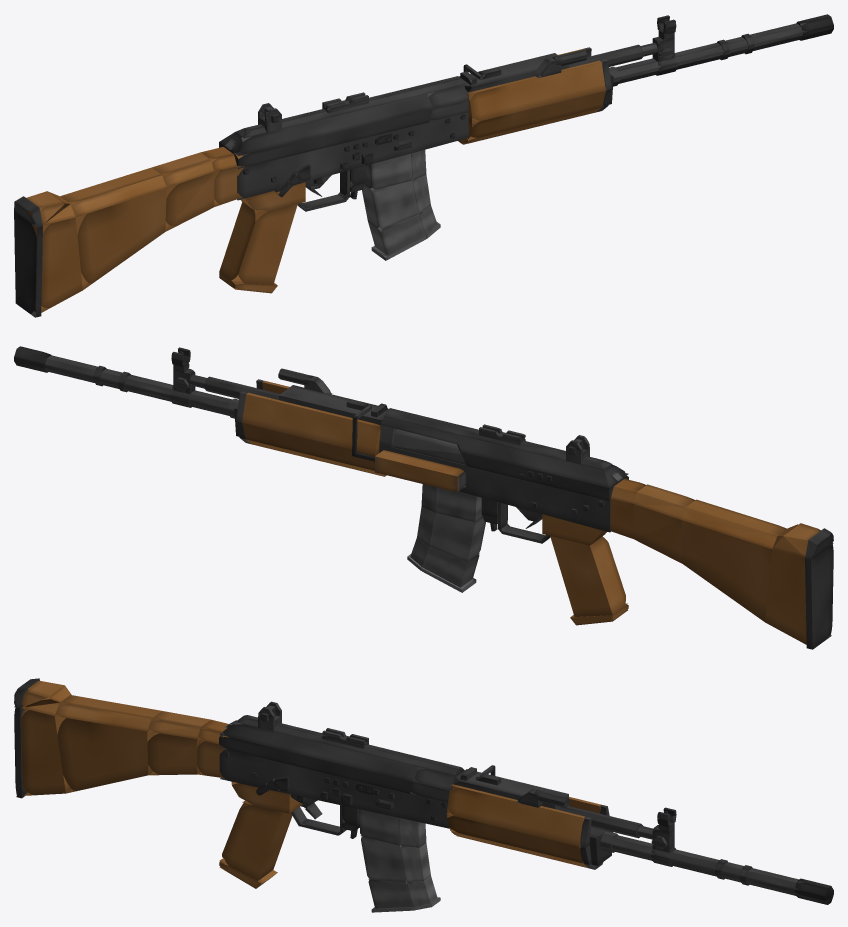
Rendered from insas.obj.
The picture shows the model from 3 angles, top to bottom: view 1: azimuth 30°, elevation 25°; view 2: azimuth 150°, elevation 25°; view 3: azimuth 330°, elevation 25°; orthographic projection.
Parts seen in each view (by area): view 1: gunModel0, gunModel22, gunModel17, gunModel87, gunModel2, gunModel23, gunModel1, gunModel29, gunModel26, gunModel89, gunModel21, gunModel4 (+13 smaller); view 2: gunModel22, gunModel0, gunModel17, gunModel86, gunModel23, gunModel2, gunModel29, gunModel26, gunModel134, gunModel88, gunModel4, gunModel21 (+15 smaller); view 3: gunModel0, gunModel22, gunModel87, gunModel17, gunModel23, gunModel2, gunModel1, gunModel26, gunModel89, gunModel4, gunModel21, gunModel31 (+22 smaller).
Part boxes in pixels (x1,y1,x2,y2): gunModel0: [220, 112, 468, 200]; gunModel22: [68, 188, 166, 289]; gunModel17: [219, 200, 297, 284]; gunModel87: [467, 60, 605, 122]; gunModel2: [219, 94, 432, 155]; gunModel23: [31, 217, 82, 312]; gunModel1: [219, 109, 432, 168]; gunModel29: [14, 211, 42, 317]; gunModel26: [60, 167, 166, 217]; gunModel89: [467, 91, 605, 139]; gunModel21: [160, 171, 214, 231]; gunModel4: [235, 76, 463, 138]; gunModel22: [681, 520, 771, 621]; gunModel0: [379, 444, 610, 532]; gunModel17: [550, 536, 627, 616]; gunModel86: [242, 392, 380, 454]; gunModel23: [765, 549, 806, 644]; gunModel2: [454, 434, 628, 487]; gunModel29: [805, 544, 833, 649]; gunModel26: [681, 499, 786, 549]; gunModel134: [375, 450, 466, 492]; gunModel88: [242, 423, 378, 470]; gunModel4: [384, 408, 612, 470]; gunModel21: [633, 504, 682, 563]; gunModel0: [219, 749, 449, 828]; gunModel22: [57, 718, 159, 793]; gunModel87: [447, 784, 584, 846]; gunModel17: [219, 802, 292, 881]; gunModel23: [21, 695, 71, 795]; gunModel2: [219, 717, 418, 781]; gunModel1: [219, 735, 412, 793]; gunModel26: [55, 695, 161, 731]; gunModel89: [447, 812, 583, 863]; gunModel4: [235, 715, 463, 775]; gunModel21: [147, 733, 200, 775]; gunModel31: [611, 835, 803, 890].
Size of the model in its own units: 26.4 by 5.6 by 1.85.
